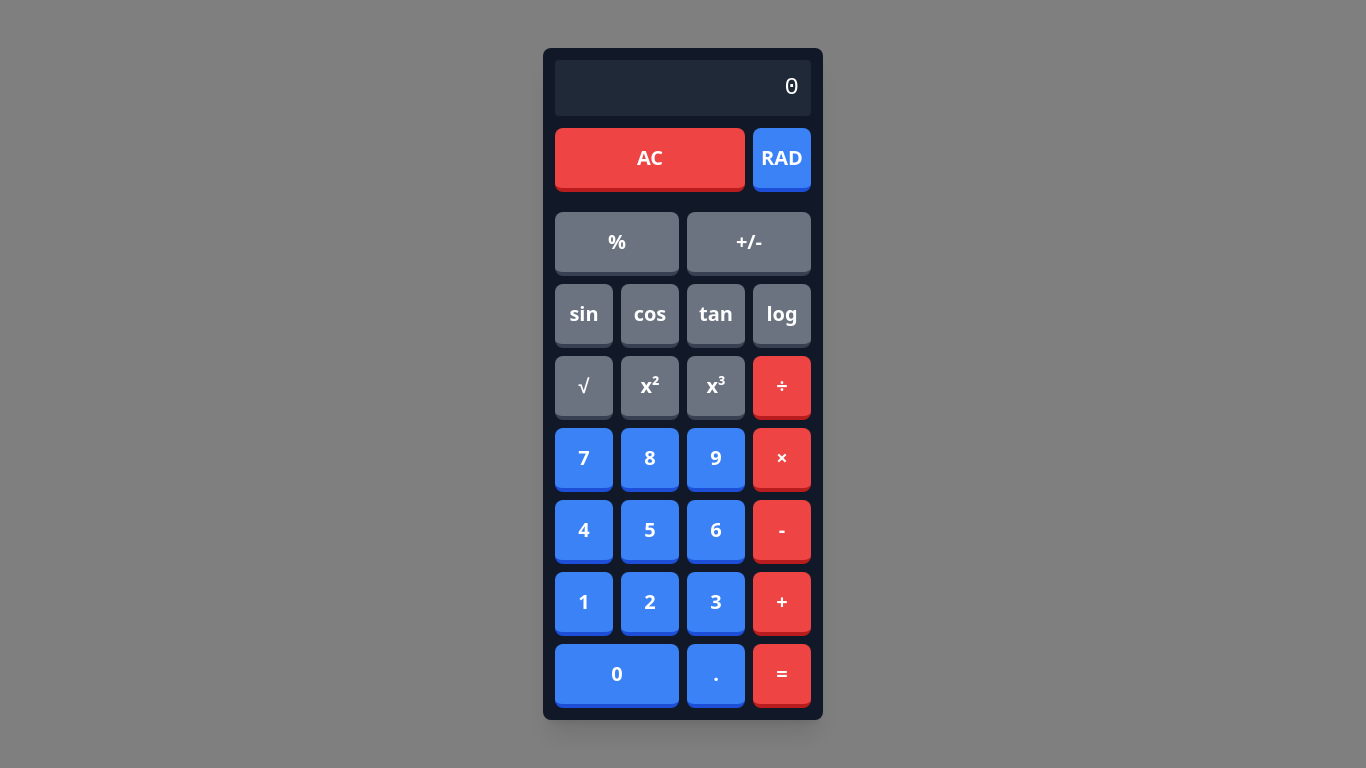
Test: Calculator › clears display when AC is clicked
What coordinates should you click on to do the following:
click the button "1"
I would click on:
 (584, 604)
Its box is [555,572,613,636].
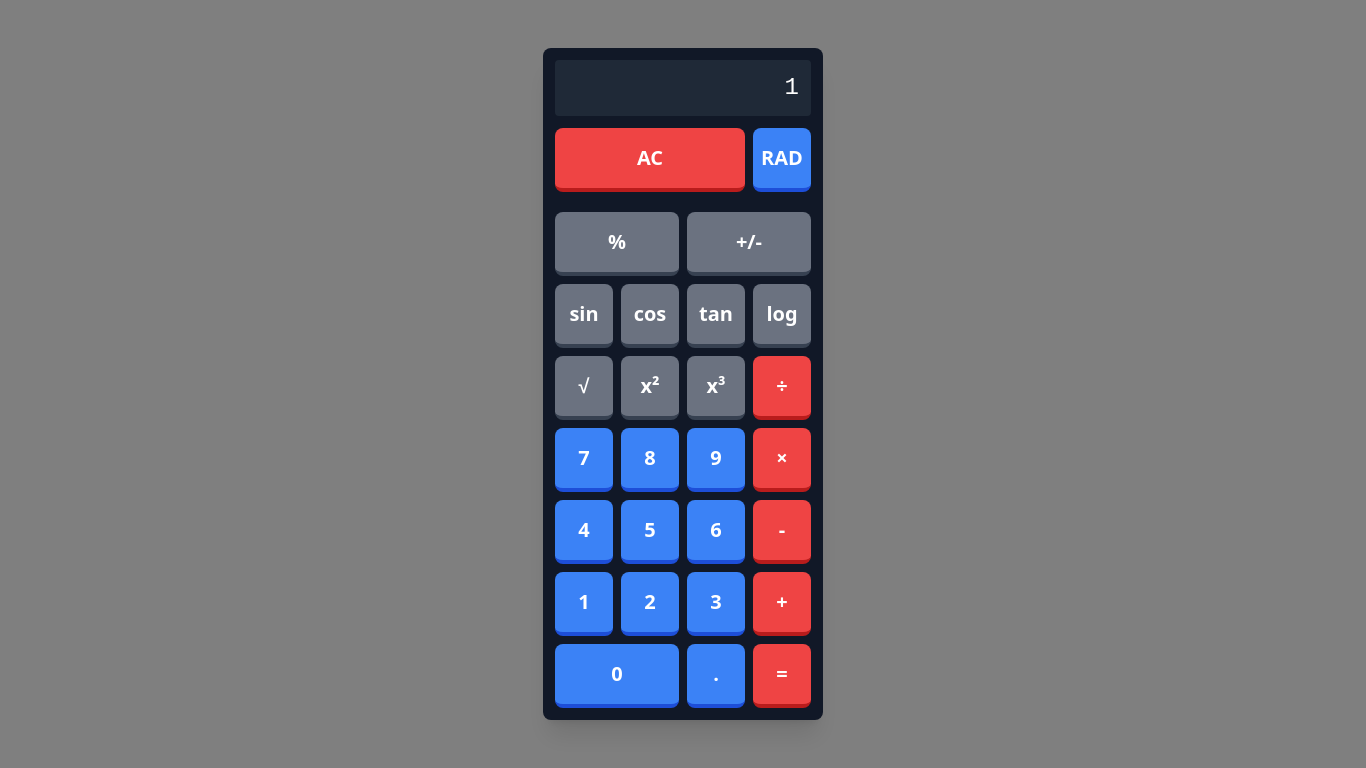
What coordinates should you click on to do the following:
click the button "2"
I would click on:
 (650, 604)
Its box is [621,572,679,636].
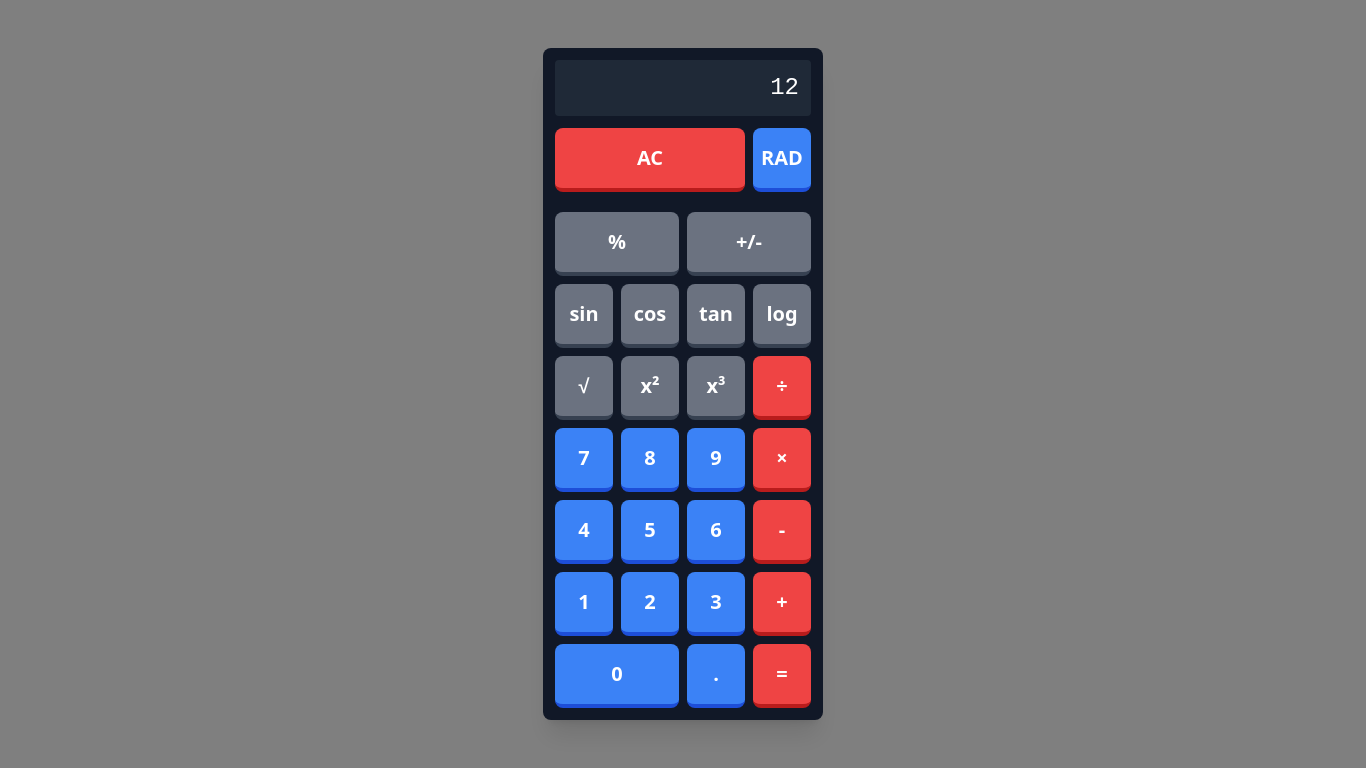
What coordinates should you click on to do the following:
click the button "AC"
I would click on:
 (650, 160)
Its box is [555,128,745,192].
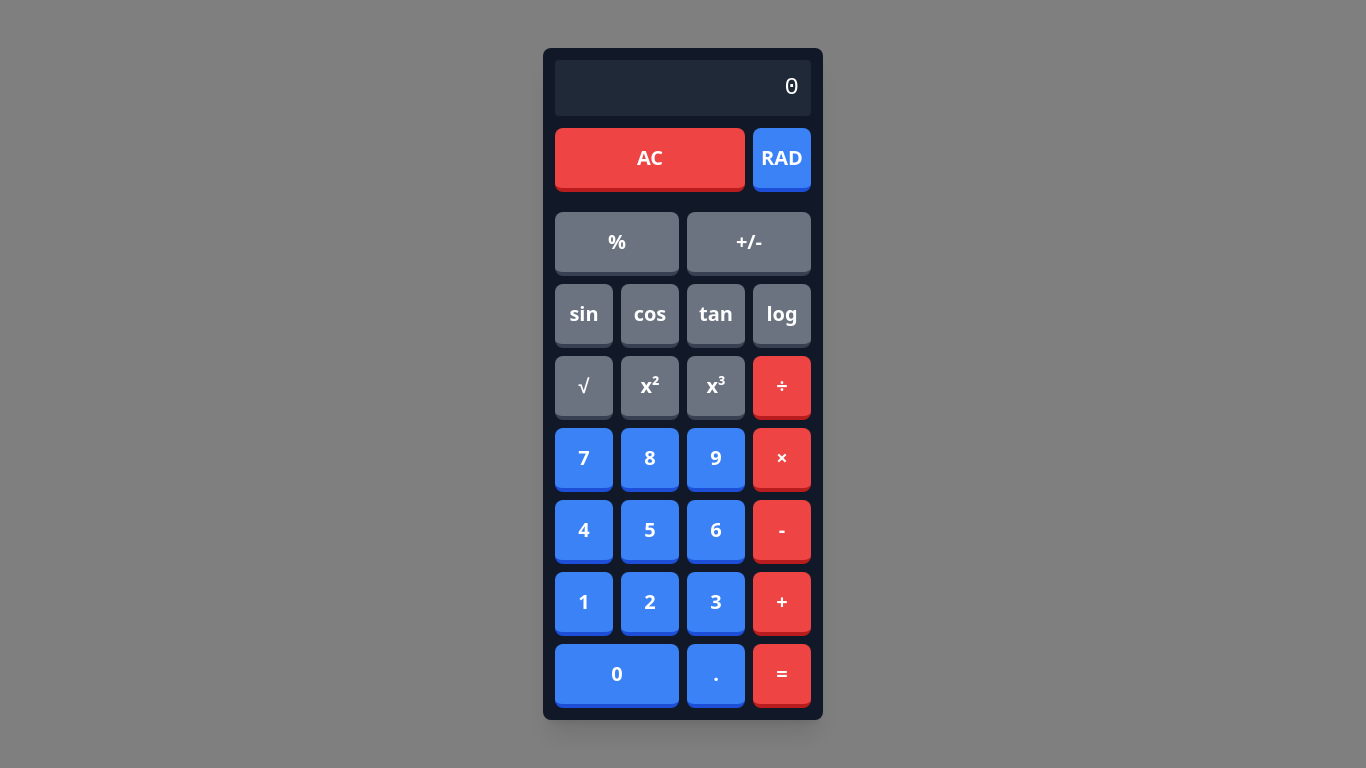
Check: the text with test id "calculator-display" reads "0", box [785,74,799,101]
